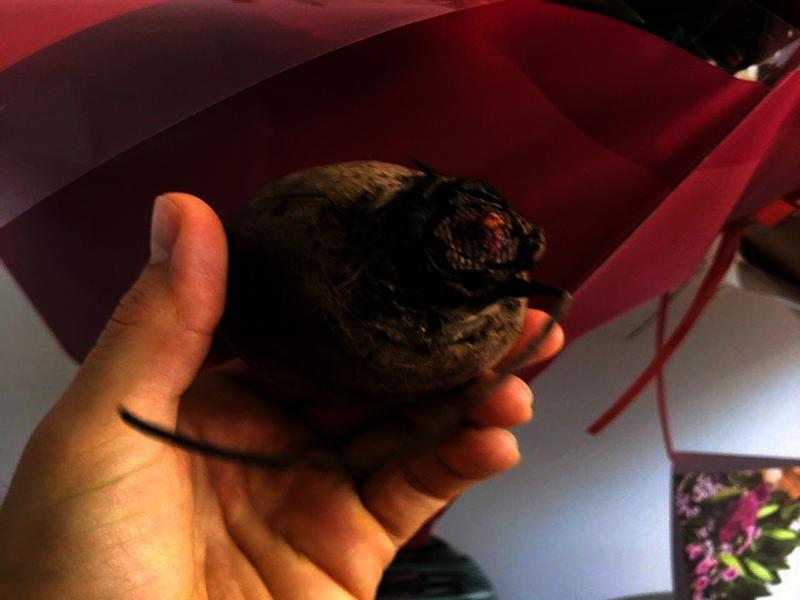Beet: (117, 160, 575, 467)
